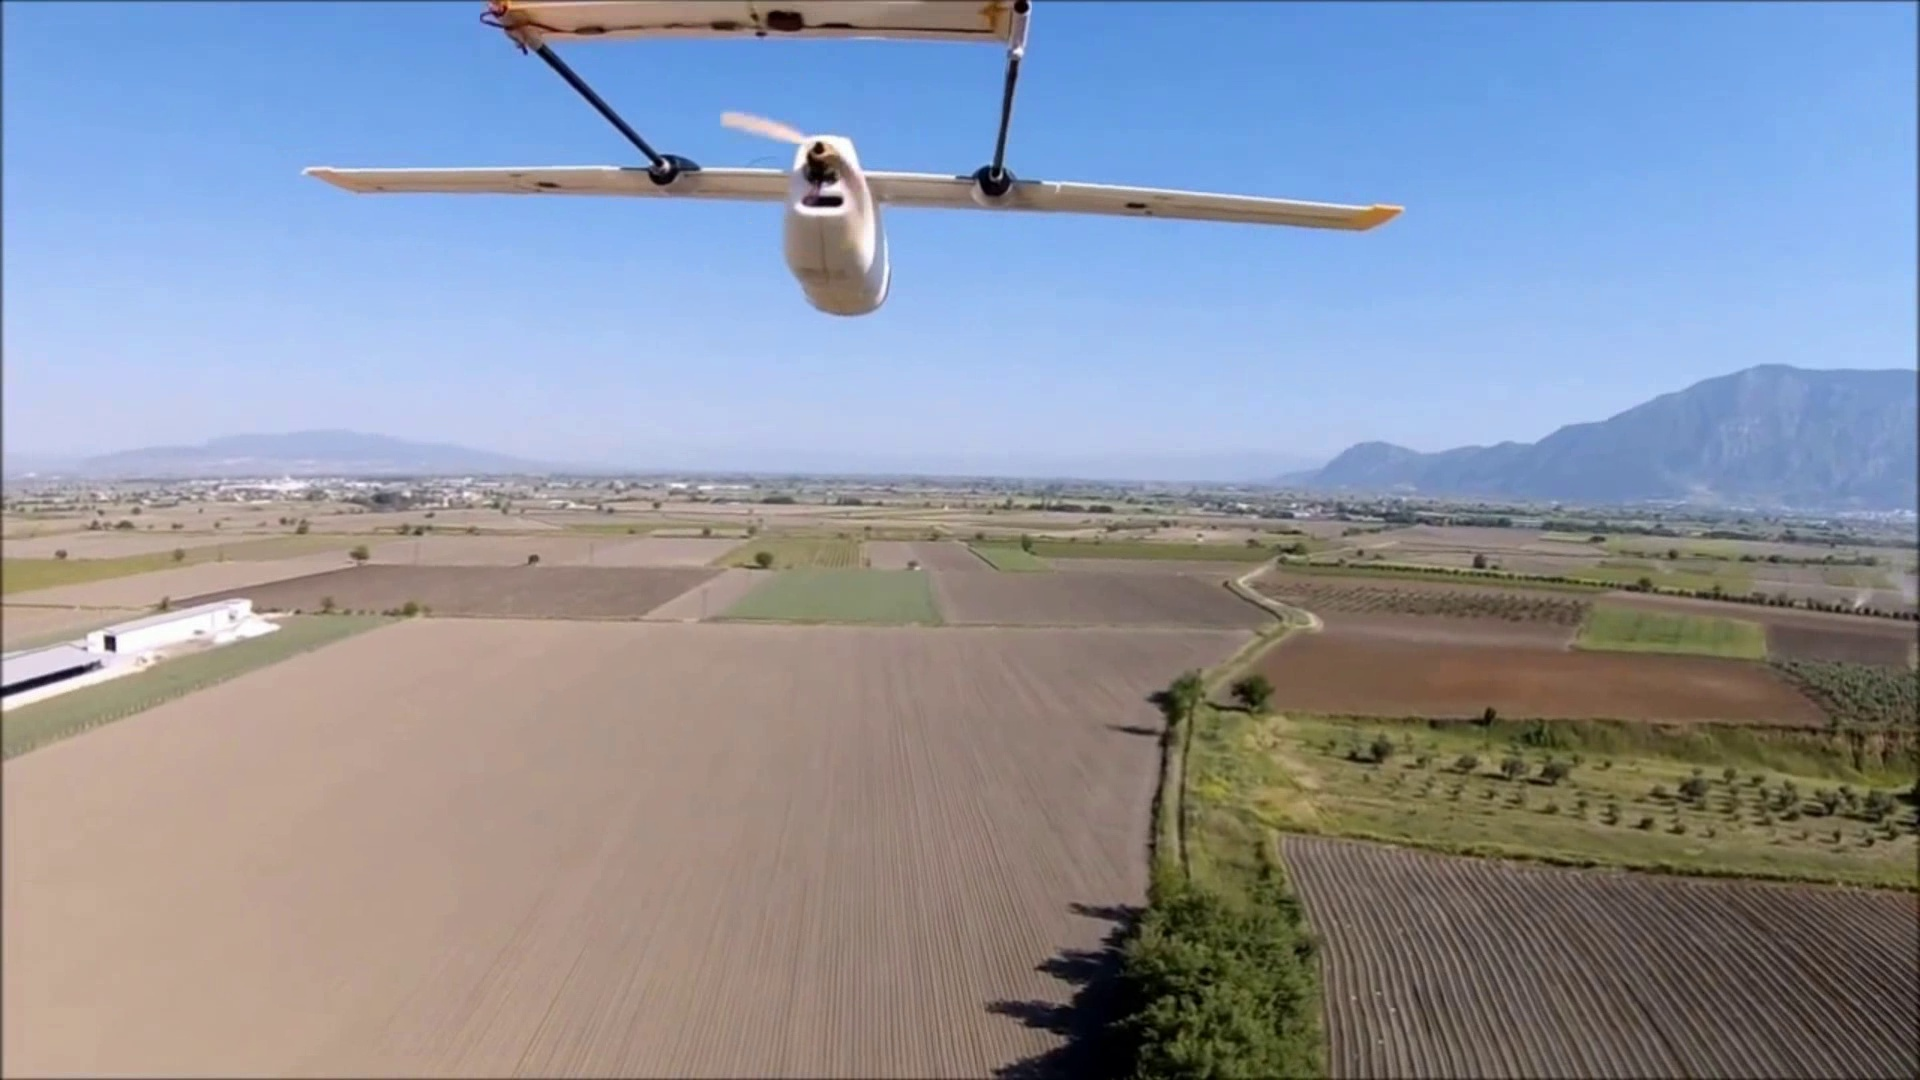airplane: (305, 4, 1402, 309)
